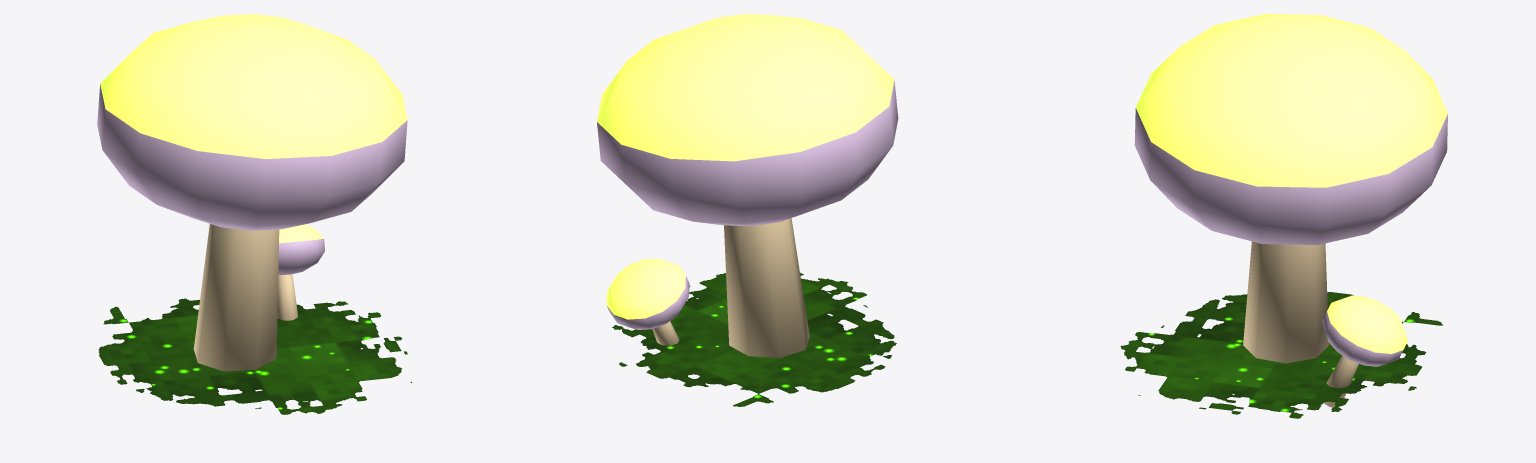
Rendered from pilz_einzel.glb.
The picture shows the model from 3 angles, left to right: view 1: azimuth 30°, elevation 25°; view 2: azimuth 150°, elevation 25°; view 3: azimuth 270°, elevation 25°; orthographic projection. The views are drawn at different scales.
Visible parts, largest first — view 1: pilz_einzel; view 2: pilz_einzel; view 3: pilz_einzel.
Part boxes in pixels (bbox=[...]): pilz_einzel: bbox=[97, 14, 411, 414]; pilz_einzel: bbox=[597, 14, 898, 406]; pilz_einzel: bbox=[1120, 14, 1447, 418].
Size of the model in its own units: 0.9421 by 0.7448 by 0.9421.
Materials: 4 (1 with a texture image).
